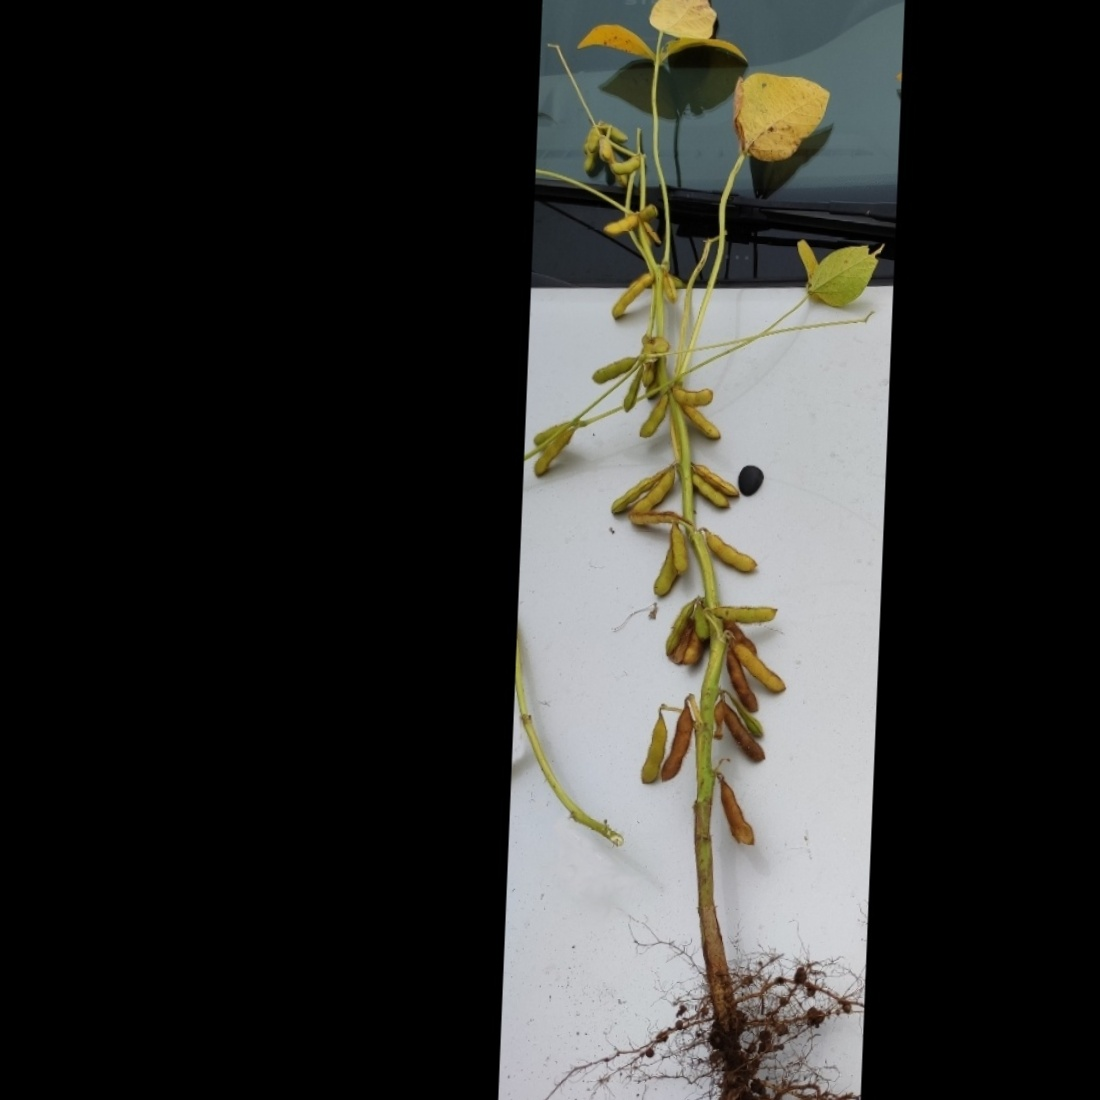pod: (708, 769, 760, 852), (654, 694, 699, 788), (708, 694, 768, 765), (603, 463, 673, 517), (635, 700, 671, 790), (733, 638, 789, 695), (532, 422, 583, 482), (722, 650, 763, 718), (629, 462, 676, 520), (707, 529, 761, 578), (611, 266, 655, 320), (686, 459, 746, 498), (708, 597, 785, 627), (683, 470, 733, 513), (633, 387, 670, 441), (683, 398, 725, 445), (663, 514, 694, 576), (588, 352, 638, 388), (670, 381, 719, 409), (598, 212, 641, 240), (607, 155, 641, 175)
soy: (509, 43, 886, 1083)
